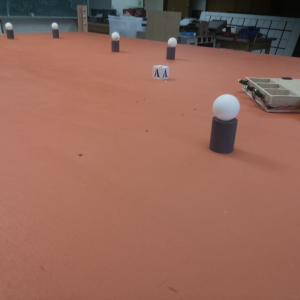blockA: (151, 63, 172, 81)
corner: (75, 4, 90, 32)
obstacle: (210, 92, 242, 153), (165, 36, 177, 60), (109, 30, 121, 53), (50, 20, 63, 39), (4, 21, 16, 39)
side: (244, 71, 273, 107)
